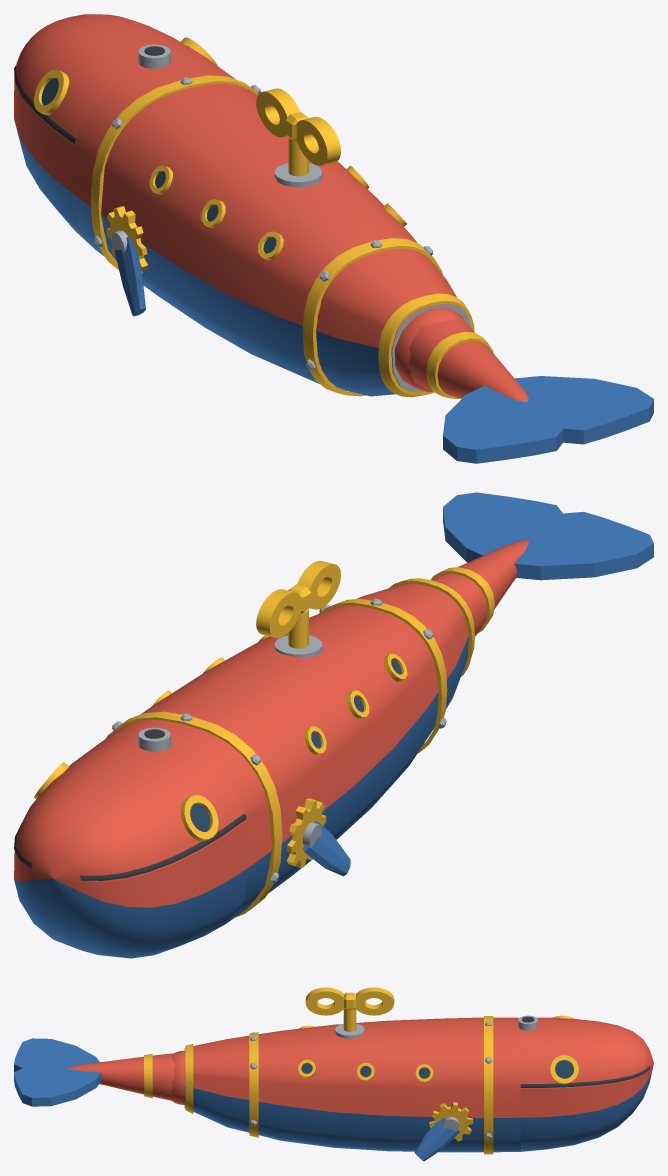
Rendered from unit-clockworkwhale.glb.
3 views of the same model, one above another, from view 1: azimuth 30°, elevation 25°; view 2: azimuth 150°, elevation 25°; view 3: azimuth 270°, elevation 25° (orthographic). The views are drawn at different scales.
Visible parts, largest first — view 1: hull, flukes, belly, tail, seam_band (×2), windup_key, jaw, tail_collar, jaw_chin, flipper_left, tail_band, gear_left (+3 smaller); view 2: hull, flukes, jaw_chin, jaw, belly, seam_band (×2), windup_key, tail, gear_left, flipper_left, mouth_line, tail_collar (+3 smaller); view 3: hull, belly, flukes, jaw_chin, jaw, tail, seam_band (×2), windup_key, flipper_right, gear_right, tail_collar, mouth_line (+4 smaller).
Boxes of the visible parts, left/top/right/bottom form: hull: left=15, top=14, right=461, bottom=350; flukes: left=443, top=376, right=653, bottom=463; belly: left=71, top=192, right=412, bottom=396; tail: left=395, top=308, right=528, bottom=402; seam_band (×2): left=90, top=75, right=442, bottom=396; windup_key: left=256, top=88, right=340, bottom=176; jaw: left=14, top=74, right=74, bottom=191; tail_collar: left=378, top=293, right=474, bottom=397; jaw_chin: left=14, top=121, right=94, bottom=248; flipper_left: left=114, top=236, right=145, bottom=316; tail_band: left=426, top=331, right=493, bottom=398; gear_left: left=106, top=206, right=147, bottom=273; hull: left=14, top=583, right=468, bottom=882; flukes: left=443, top=492, right=653, bottom=580; jaw_chin: left=14, top=867, right=249, bottom=958; jaw: left=14, top=821, right=249, bottom=907; belly: left=226, top=636, right=468, bottom=923; seam_band (×2): left=106, top=599, right=447, bottom=916; windup_key: left=256, top=560, right=340, bottom=648; tail: left=430, top=540, right=528, bottom=636; gear_left: left=286, top=798, right=326, bottom=868; flipper_left: left=303, top=821, right=350, bottom=876; mouth_line: left=79, top=813, right=246, bottom=880; tail_collar: left=389, top=578, right=474, bottom=676; hull: left=184, top=1017, right=653, bottom=1117; belly: left=184, top=1086, right=520, bottom=1152; flukes: left=14, top=1038, right=101, bottom=1106; jaw_chin: left=520, top=1065, right=653, bottom=1151; jaw: left=520, top=1064, right=653, bottom=1117; tail: left=67, top=1050, right=184, bottom=1104; seam_band (×2): left=249, top=1016, right=493, bottom=1154; windup_key: left=305, top=987, right=394, bottom=1031; flipper_right: left=414, top=1118, right=459, bottom=1161; gear_right: left=429, top=1102, right=473, bottom=1141; tail_collar: left=185, top=1044, right=193, bottom=1113; mouth_line: left=520, top=1066, right=650, bottom=1087.
Bounding box in the file's own units: 14.44 × 16.16 × 60.
